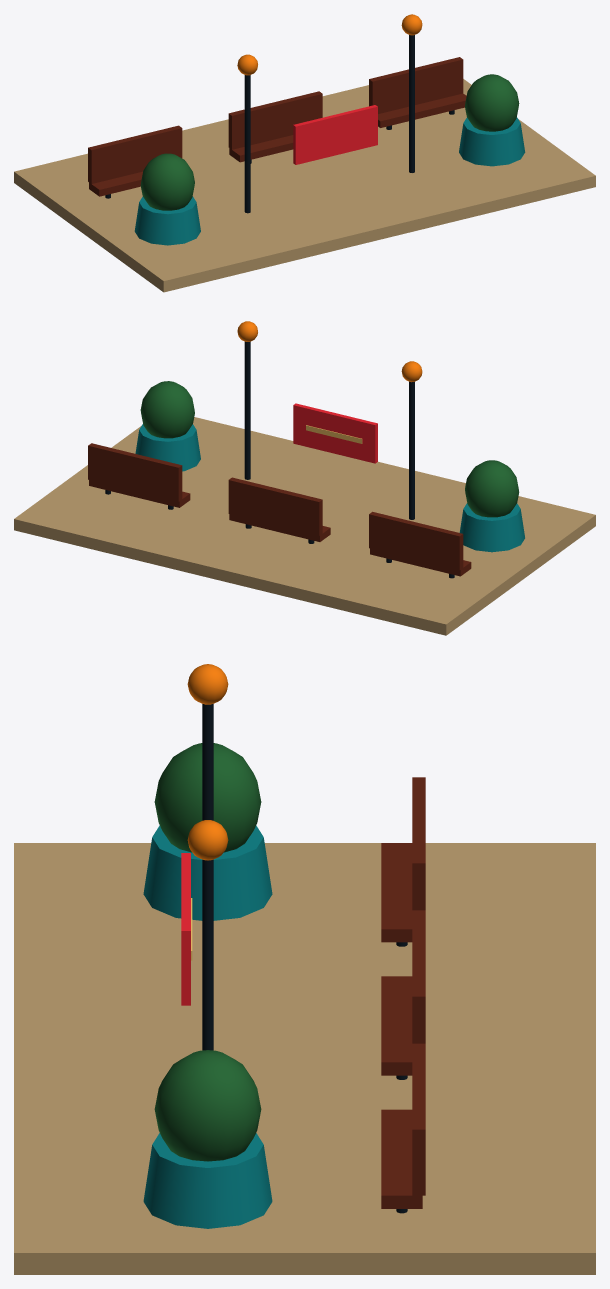
The model's file is plaza.glb.
The picture shows the model from 3 angles, top to bottom: view 1: azimuth 30°, elevation 25°; view 2: azimuth 150°, elevation 25°; view 3: azimuth 270°, elevation 25°; orthographic projection. The views are drawn at different scales.
Parts seen in each view (by area): view 1: pale, wood, green, teal, coral, navy, gold; view 2: pale, wood, green, teal, coral, navy, gold; view 3: pale, green, teal, wood, navy, gold, coral.
Part boxes in pixels (x1=…): pale: x1=14, y1=79, x2=595, y2=292; wood: x1=88, y1=57, x2=466, y2=196; green: x1=140, y1=74, x2=519, y2=210; teal: x1=134, y1=117, x2=525, y2=245; coral: x1=293, y1=105, x2=377, y2=164; navy: x1=105, y1=35, x2=454, y2=213; gold: x1=237, y1=14, x2=422, y2=75; pale: x1=14, y1=417, x2=595, y2=635; wood: x1=88, y1=443, x2=471, y2=576; green: x1=140, y1=381, x2=519, y2=517; teal: x1=135, y1=424, x2=524, y2=552; coral: x1=293, y1=403, x2=377, y2=463; navy: x1=105, y1=341, x2=454, y2=578; gold: x1=237, y1=321, x2=422, y2=382; pale: x1=14, y1=843, x2=595, y2=1274; green: x1=154, y1=743, x2=261, y2=1161; teal: x1=143, y1=825, x2=272, y2=1228; wood: x1=381, y1=777, x2=425, y2=1208; navy: x1=202, y1=704, x2=407, y2=1213; gold: x1=187, y1=664, x2=228, y2=860; coral: x1=181, y1=853, x2=190, y2=1005.
Bounding box in the file's own units: 20 × 7.42 × 12.
